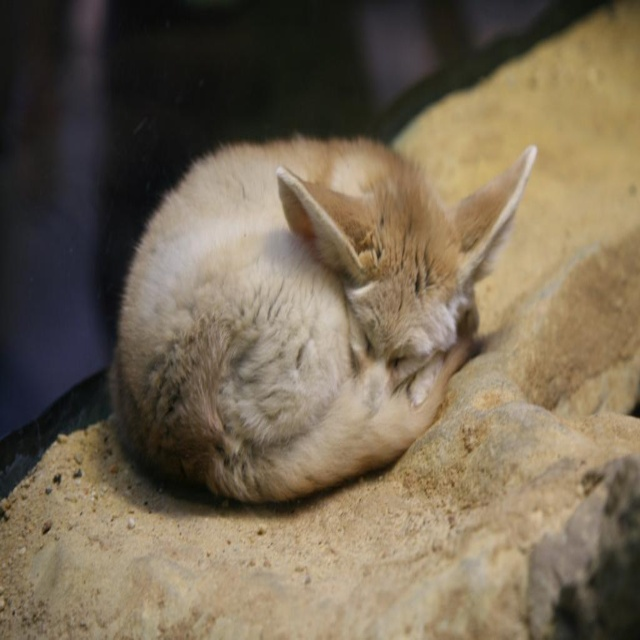Fox: (104, 127, 538, 507)
